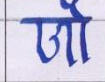au_matra: (63, 0, 95, 63)
